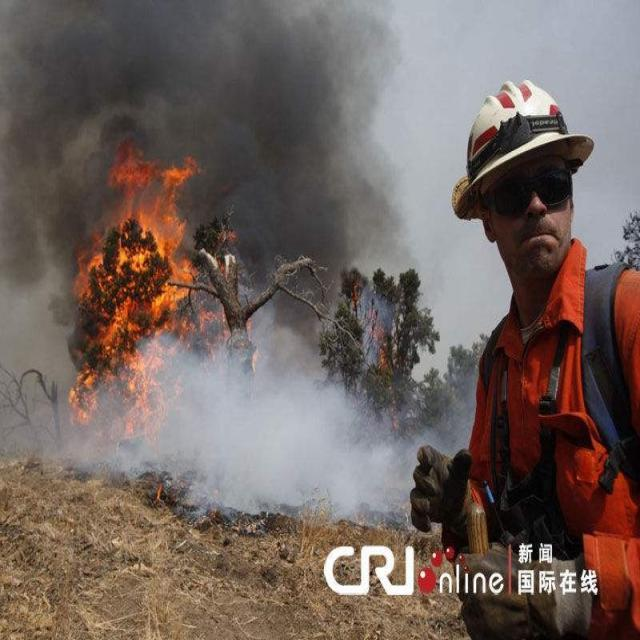Fire: (66, 140, 257, 435)
Smoke: (0, 1, 478, 531)
